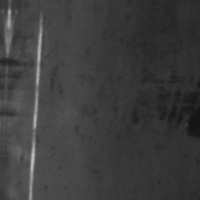patches: (176, 103, 199, 138)
pitted_surface: (70, 63, 142, 199)
scratches: (22, 12, 47, 199)
